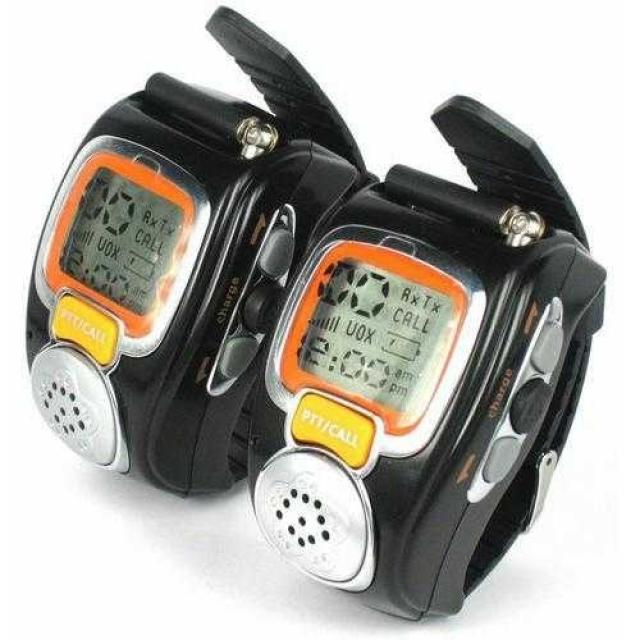watch: (290, 177, 468, 450), (28, 121, 218, 360)
